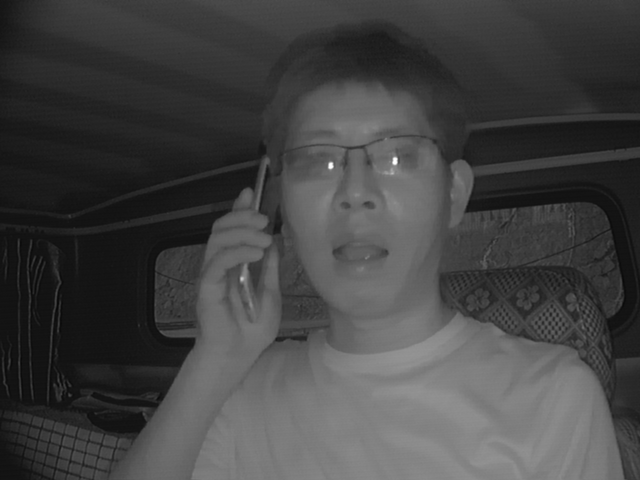hand: (195, 186, 290, 352)
